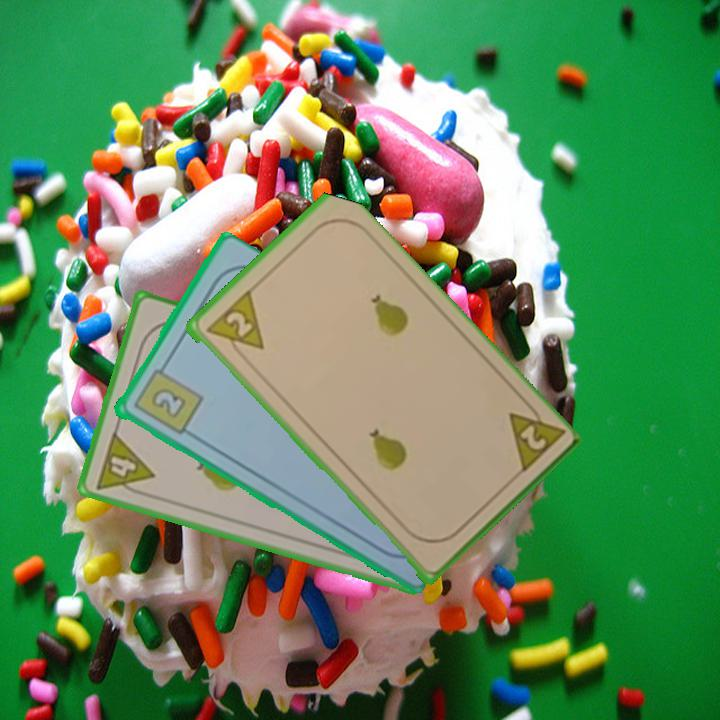2b: (129, 358, 205, 438)
2p: (504, 395, 566, 478), (201, 288, 267, 365)
4p: (92, 428, 157, 501)
